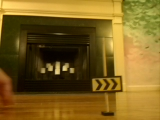right: (91, 77, 122, 91)
